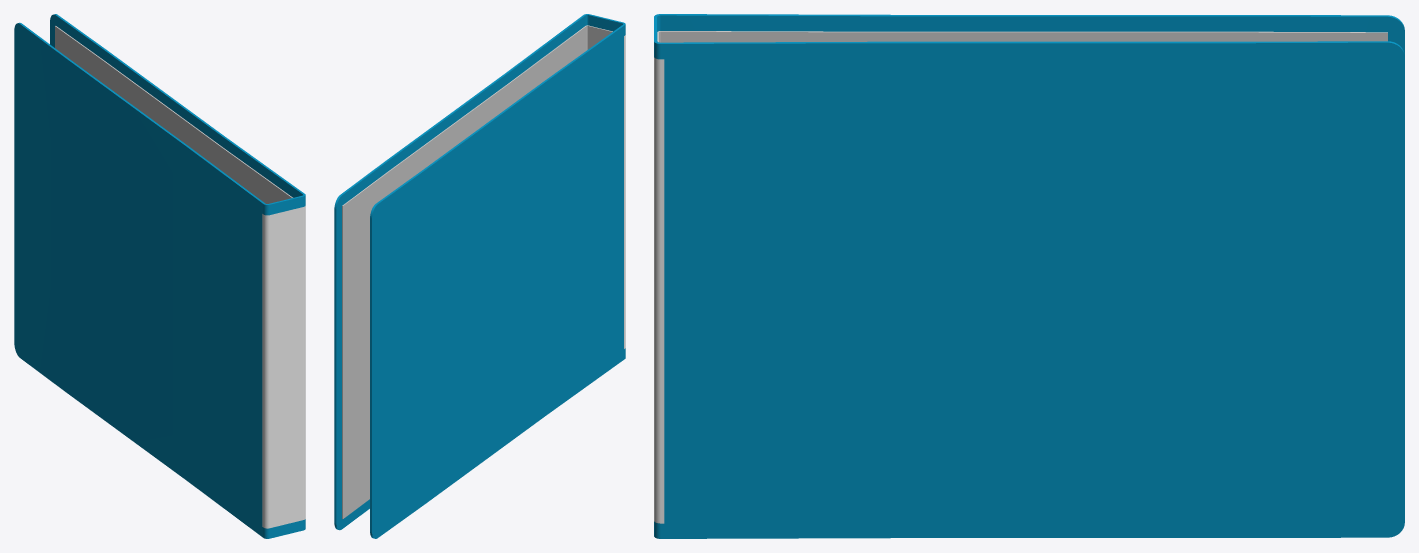
Rendered from 457_パイプ式ファイルA3.glb.
3 renders of one model, left to right at view 1: azimuth 30°, elevation 25°; view 2: azimuth 150°, elevation 25°; view 3: azimuth 270°, elevation 25°, orthographic. The views are drawn at different scales.
Parts seen in each view (by area): view 1: 457_pipe_file_A3; view 2: 457_pipe_file_A3; view 3: 457_pipe_file_A3.
Boxes of the visible parts, x1,y1,x2,y2 form: 457_pipe_file_A3: (14, 14, 305, 538); 457_pipe_file_A3: (334, 14, 625, 538); 457_pipe_file_A3: (654, 14, 1404, 538).
Bounding box in the file's own units: 0.0416 × 0.32 × 0.44.
